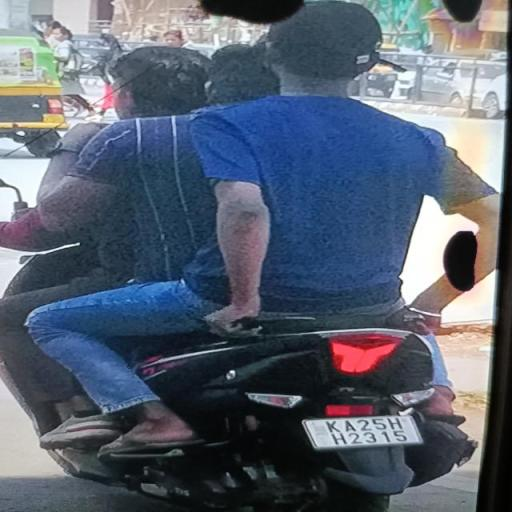bike: (6, 0, 492, 512)
numberplate: (302, 406, 428, 454)
withouthelmet: (268, 5, 380, 91), (117, 47, 208, 113), (207, 46, 272, 106)
